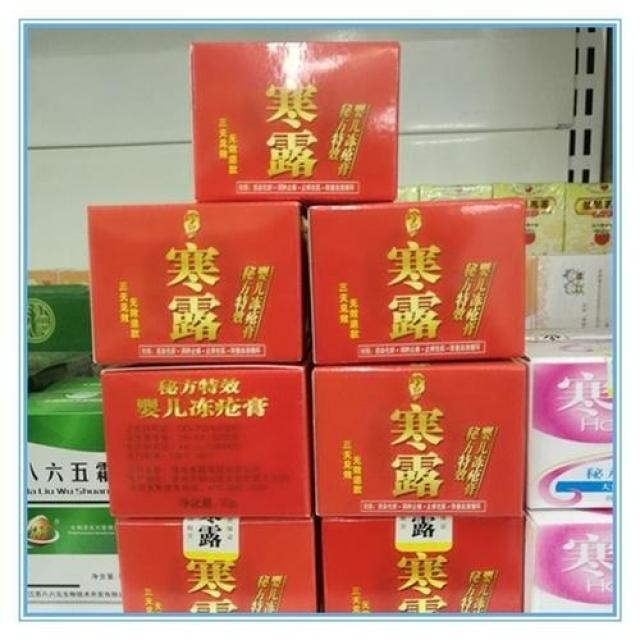box: (310, 200, 526, 366), (86, 199, 302, 364), (311, 356, 530, 516), (191, 44, 399, 202), (102, 365, 311, 520), (317, 515, 524, 612), (112, 517, 315, 613), (526, 338, 614, 511), (26, 366, 111, 504), (26, 501, 120, 614), (522, 506, 616, 612), (526, 255, 617, 337), (28, 286, 91, 401), (491, 181, 567, 255), (562, 182, 617, 253), (420, 181, 493, 201), (26, 266, 90, 287), (398, 181, 419, 201)
